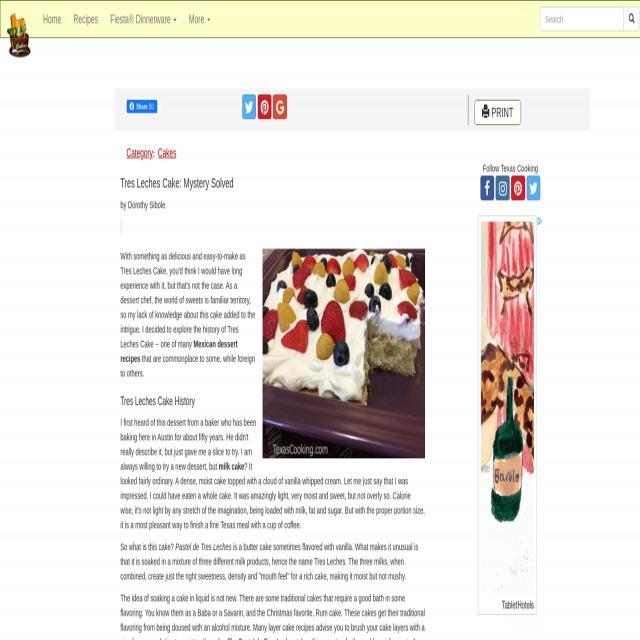button: (263, 249, 425, 459), (478, 216, 536, 614), (104, 0, 183, 38), (68, 0, 104, 38), (183, 0, 216, 38), (474, 100, 521, 125), (37, 0, 67, 38), (7, 12, 31, 59), (126, 100, 158, 114), (623, 8, 640, 32), (242, 94, 256, 119), (258, 94, 272, 119), (480, 175, 494, 200), (496, 175, 510, 200), (511, 175, 525, 200), (526, 175, 540, 200), (273, 94, 287, 119), (537, 215, 543, 228)
field: (541, 7, 623, 31)
